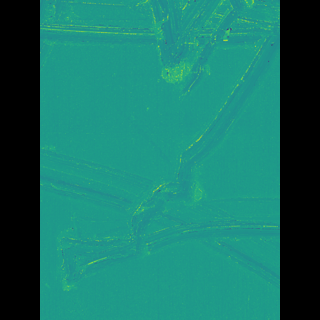Loch: (77, 0, 250, 297)
